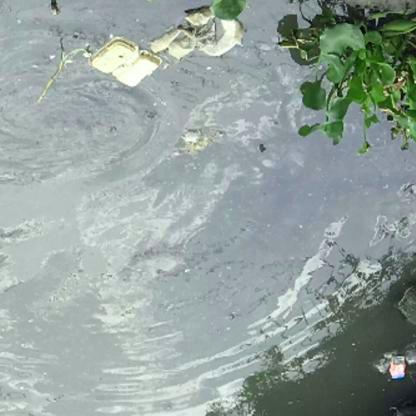Plastic: (89, 40, 157, 90)
Trash: (159, 10, 241, 65), (386, 352, 407, 382)
